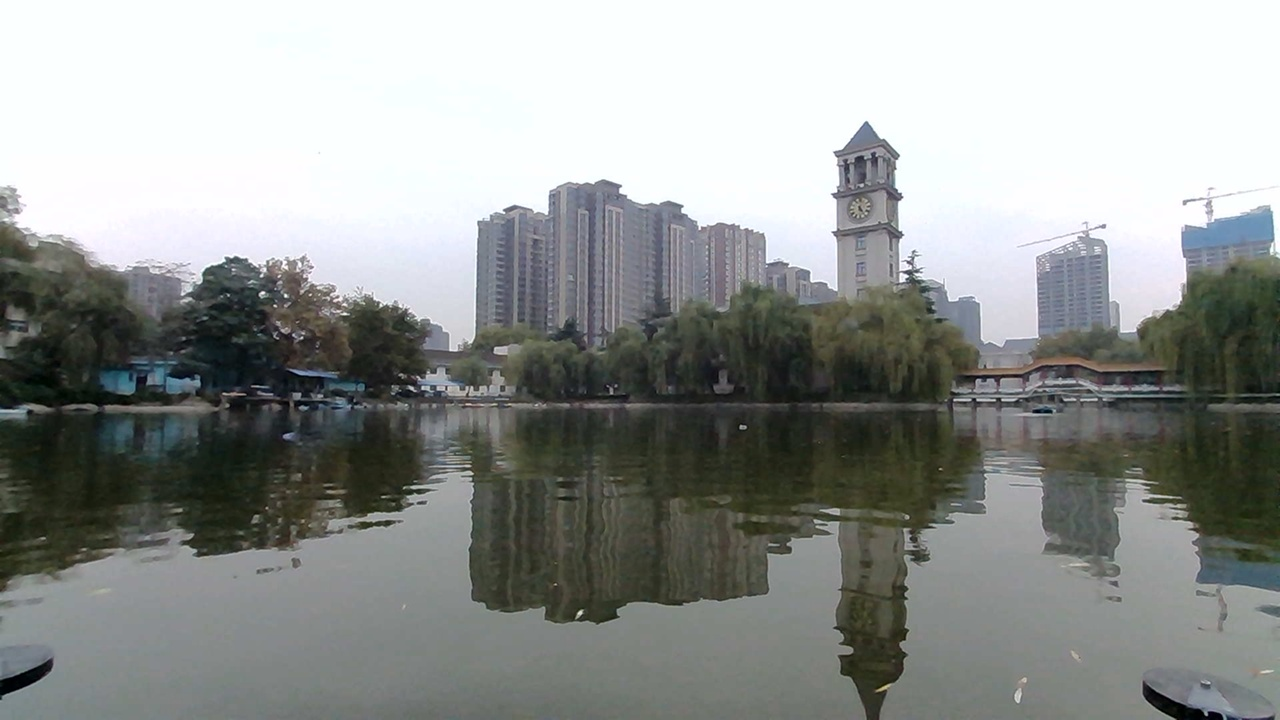bottle: (282, 418, 324, 448), (726, 419, 763, 442)
